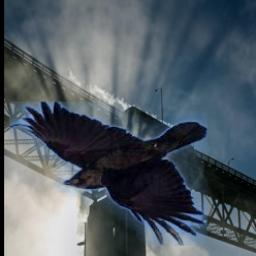Crow: (9, 102, 207, 246)
